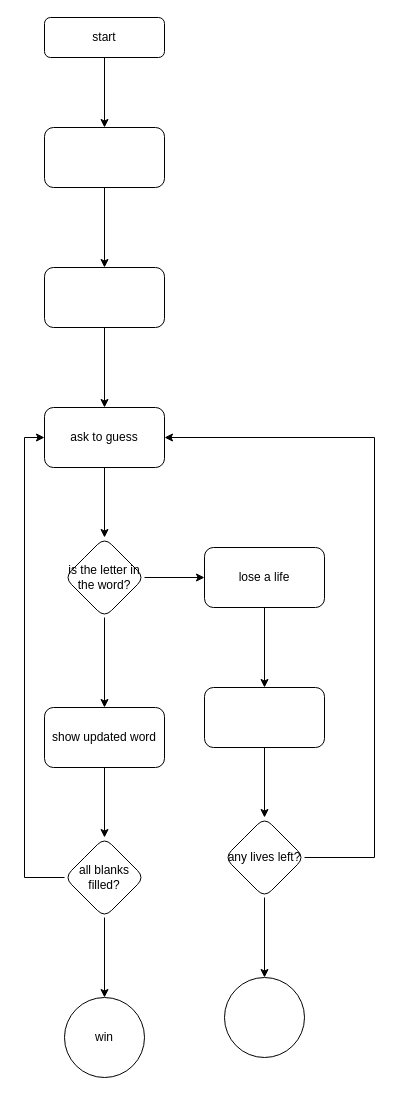
Image size: 400x1095. Some labels were removed from this diagram. Here are the shapes that lost their labels. From the top down, the centre of each, then its label:
point (104, 157): create random word
point (104, 297): create blanks
point (264, 717): update draw
point (264, 1017): lose
